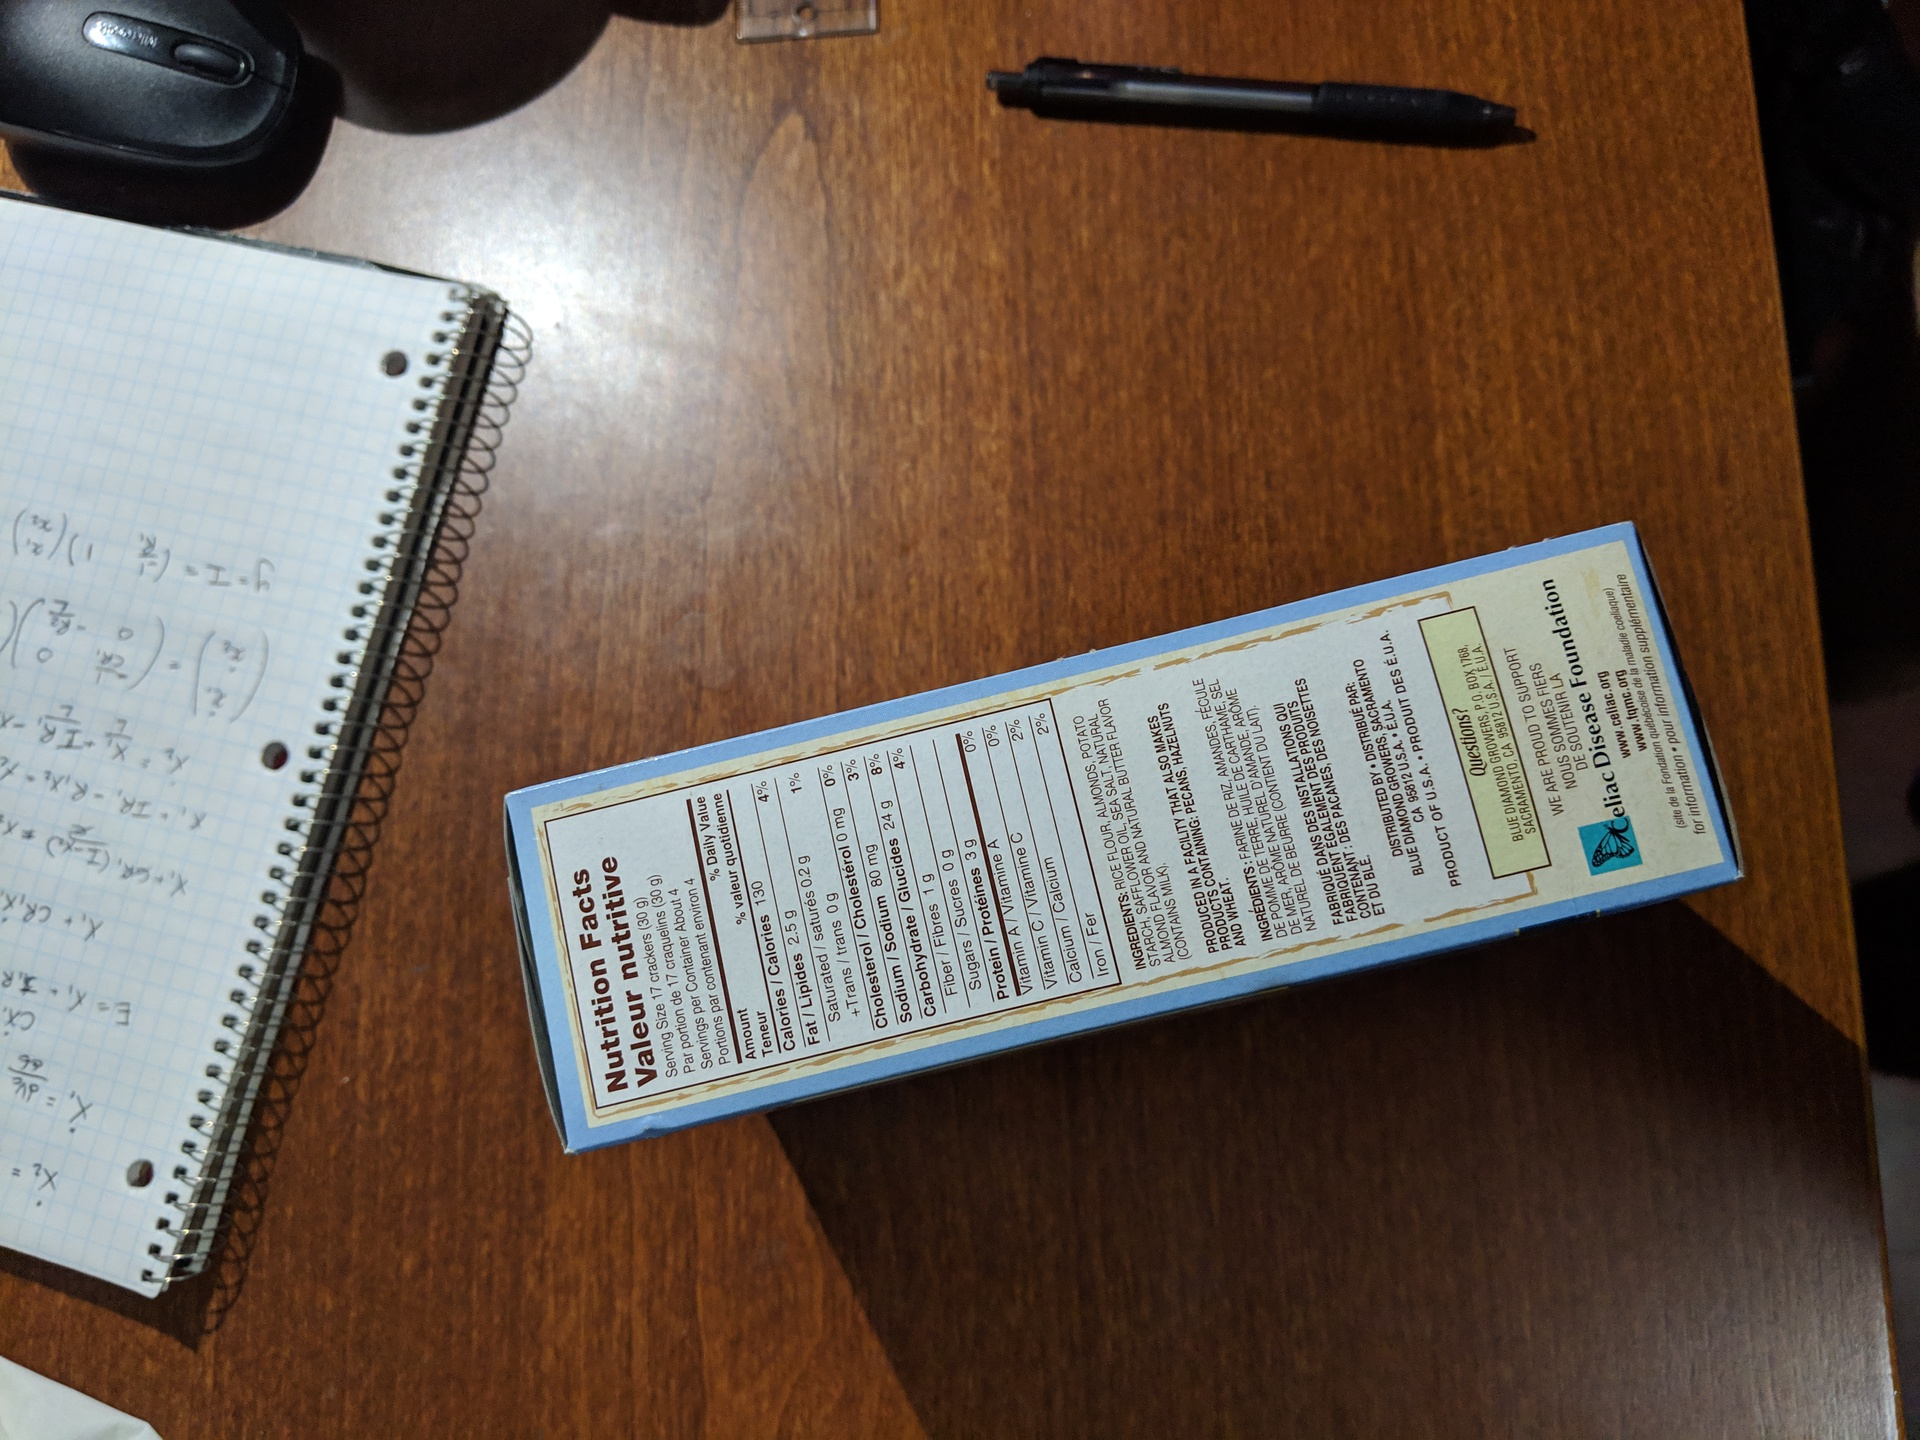blue_diamond_nut_thins_almond_seasalt: (537, 579, 1702, 1063)
